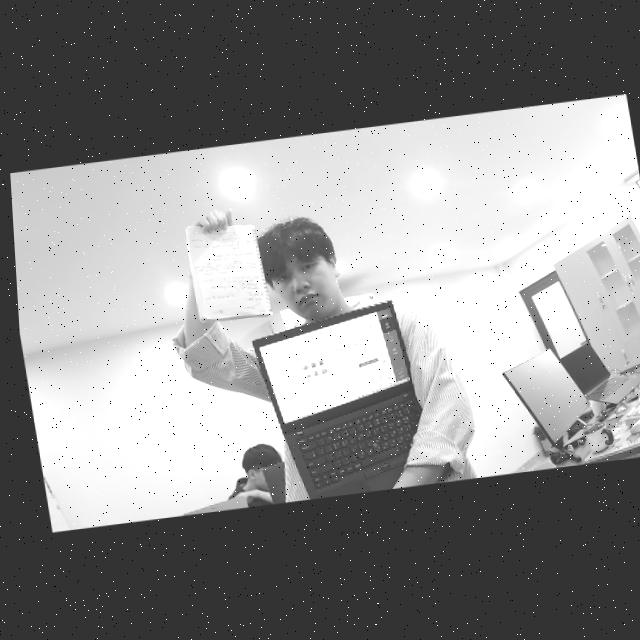document: (184, 224, 273, 321)
face: (261, 218, 339, 323)
